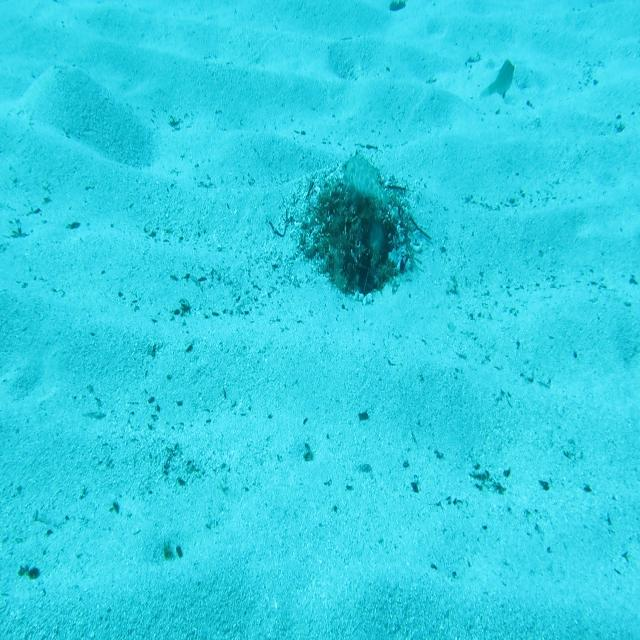ROLL: (341, 150, 392, 213)
female: (478, 56, 520, 105)
nest: (293, 153, 431, 306)
